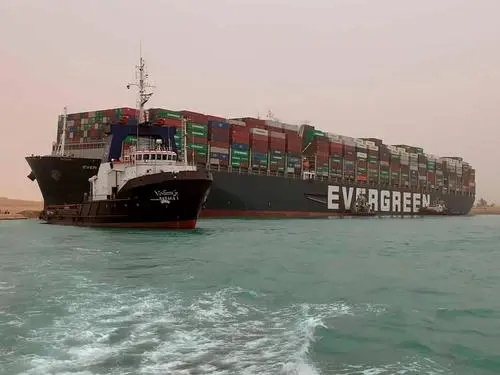Cargoship: (20, 83, 478, 217)
otherboat: (35, 138, 198, 226)
